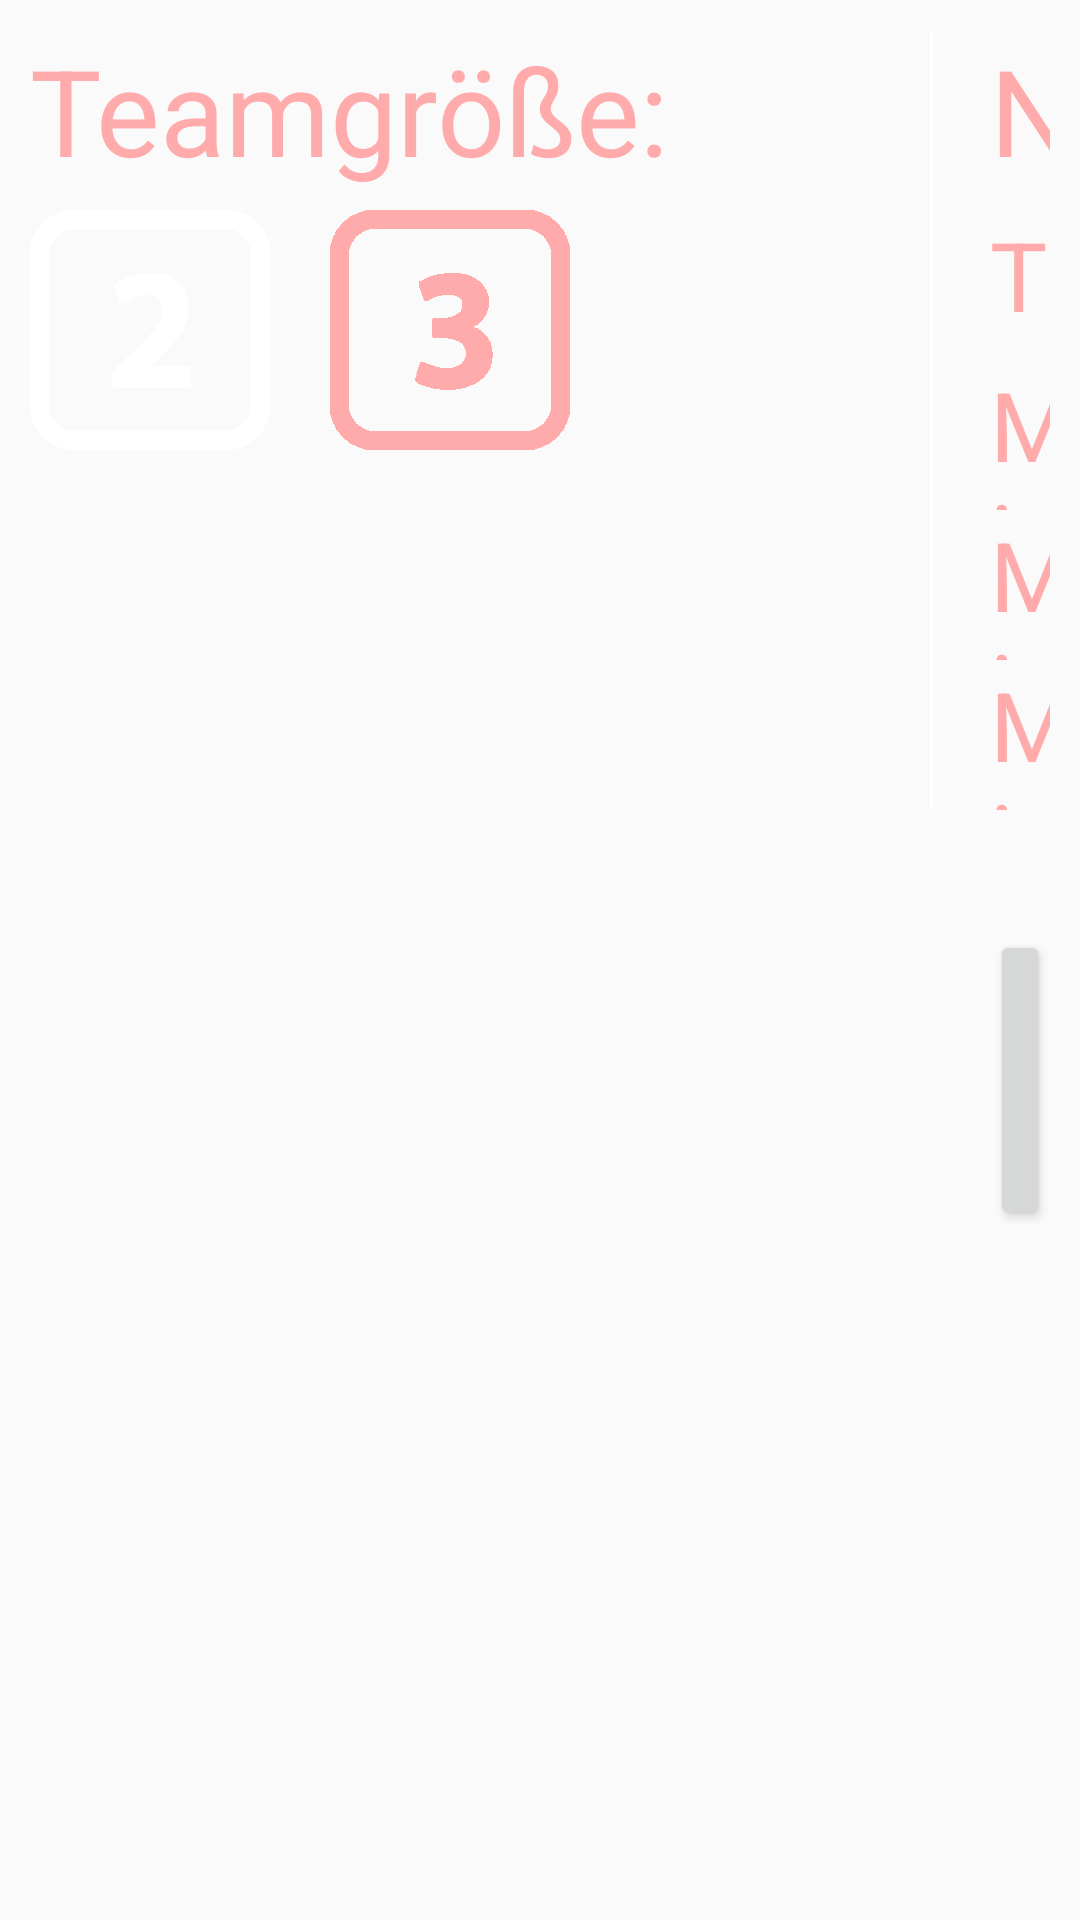

Where icons sit on this 1080px x 1920px app screen, as (x1, y1, x2, y2):
number: (330, 210, 570, 450)
